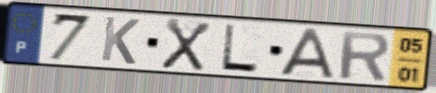7: (46, 11, 95, 62)
A: (277, 27, 336, 80)
K: (98, 14, 142, 67)
L: (218, 22, 262, 75)
R: (338, 29, 392, 82)
X: (158, 16, 214, 73)
